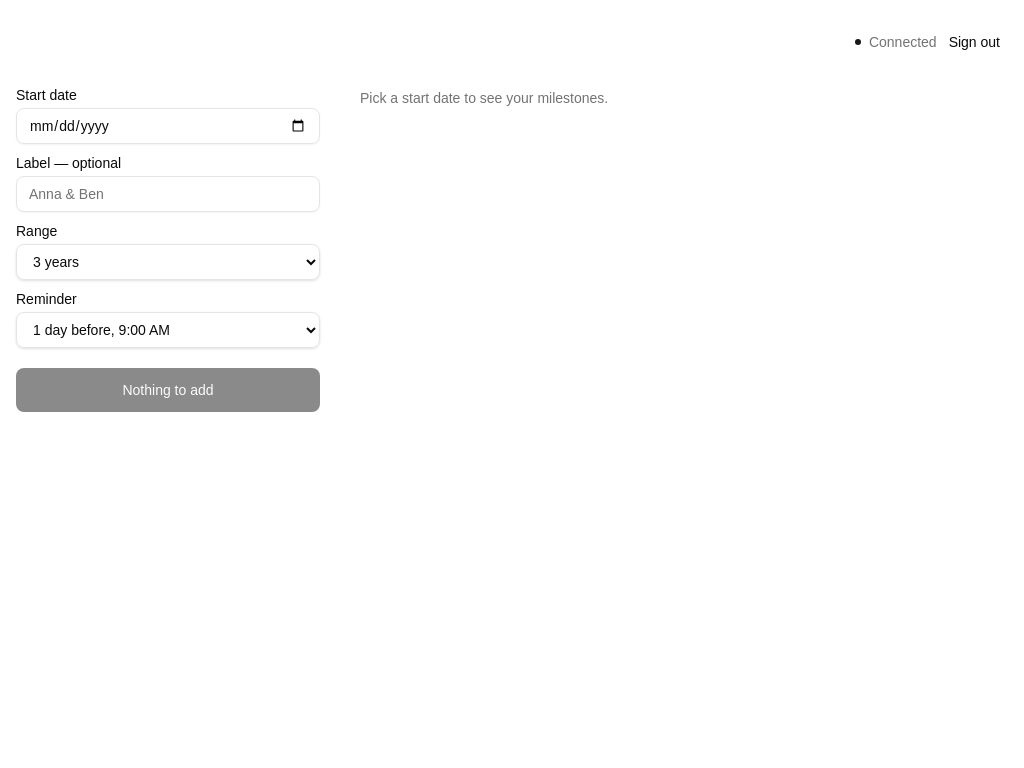
App — in-app browser › keeps a live session working, because only the handshake is blocked
Type "2026-01-01" into the date field labelled "Start date". click: (168, 126)
box: [16,108,320,144]
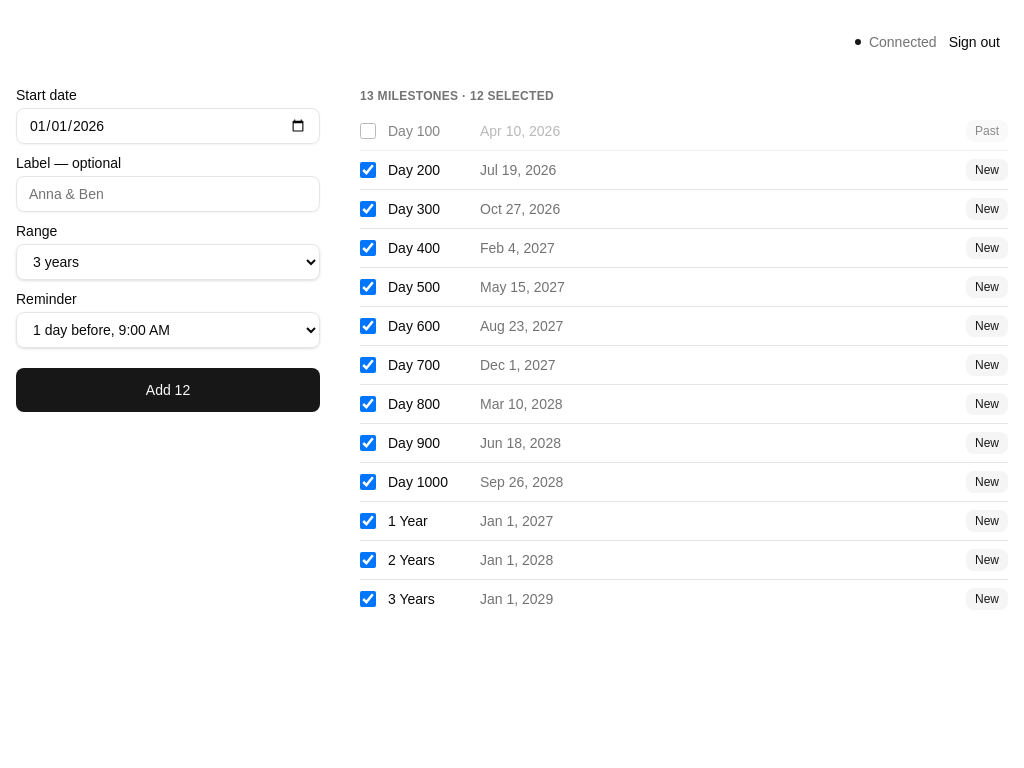
expect the button "Add 12" is shown: met, box [16,368,320,412]
